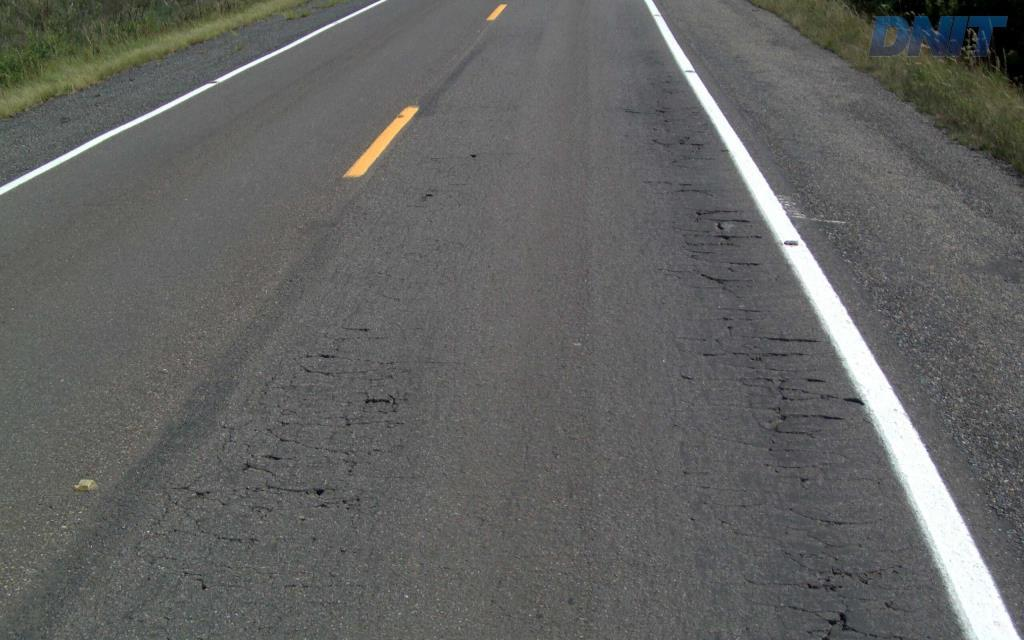crack: (805, 604, 880, 639), (804, 565, 852, 592)
